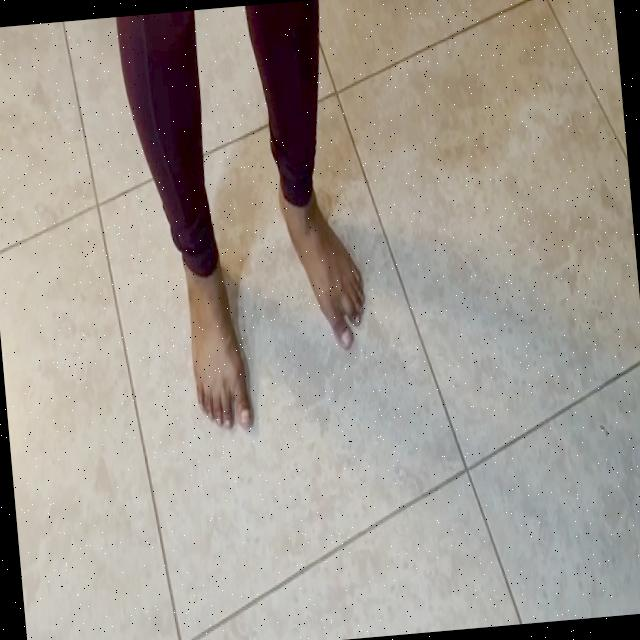no-boots: (272, 161, 376, 356), (172, 232, 258, 440)
